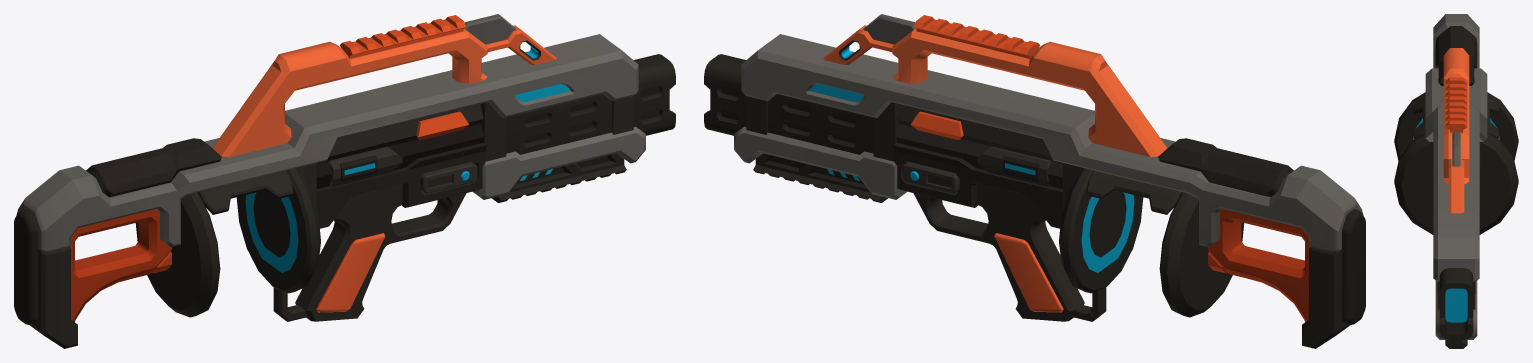
The model's file is Shotgun6_Base.fbx.
3 views of the same model, side by side, from view 1: azimuth 30°, elevation 25°; view 2: azimuth 150°, elevation 25°; view 3: azimuth 270°, elevation 25° (orthographic). The views are drawn at different scales.
Parts seen in each view (by area): view 1: Shotgun6_Base; view 2: Shotgun6_Base; view 3: Shotgun6_Base.
Boxes of the visible parts, x1,y1,x2,y2 form: Shotgun6_Base: [14, 14, 675, 348]; Shotgun6_Base: [704, 14, 1365, 348]; Shotgun6_Base: [1394, 14, 1518, 348].
Size of the model in its own units: 74.14 by 30 by 14.79.
